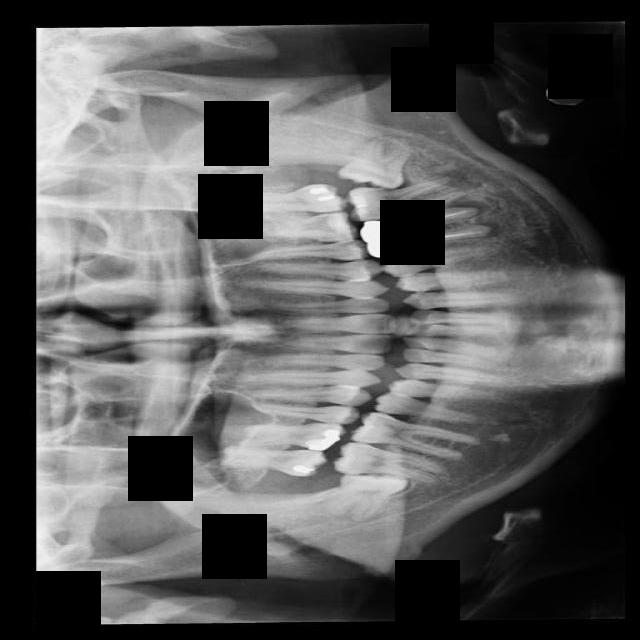52: (296, 414, 350, 455), (343, 184, 399, 223), (272, 445, 332, 479), (358, 220, 411, 258), (297, 182, 349, 215), (311, 211, 360, 241)
73: (399, 202, 493, 247), (590, 31, 601, 36)
BioHorizons Implant: (219, 182, 349, 216)
Biomet 3i Implant: (334, 124, 417, 193)
Blue Sky Bio Implant: (343, 164, 466, 226)
Caries: (198, 444, 330, 478)
Implant: (332, 438, 446, 485)
Keystone Dental Implant: (328, 472, 409, 522)
